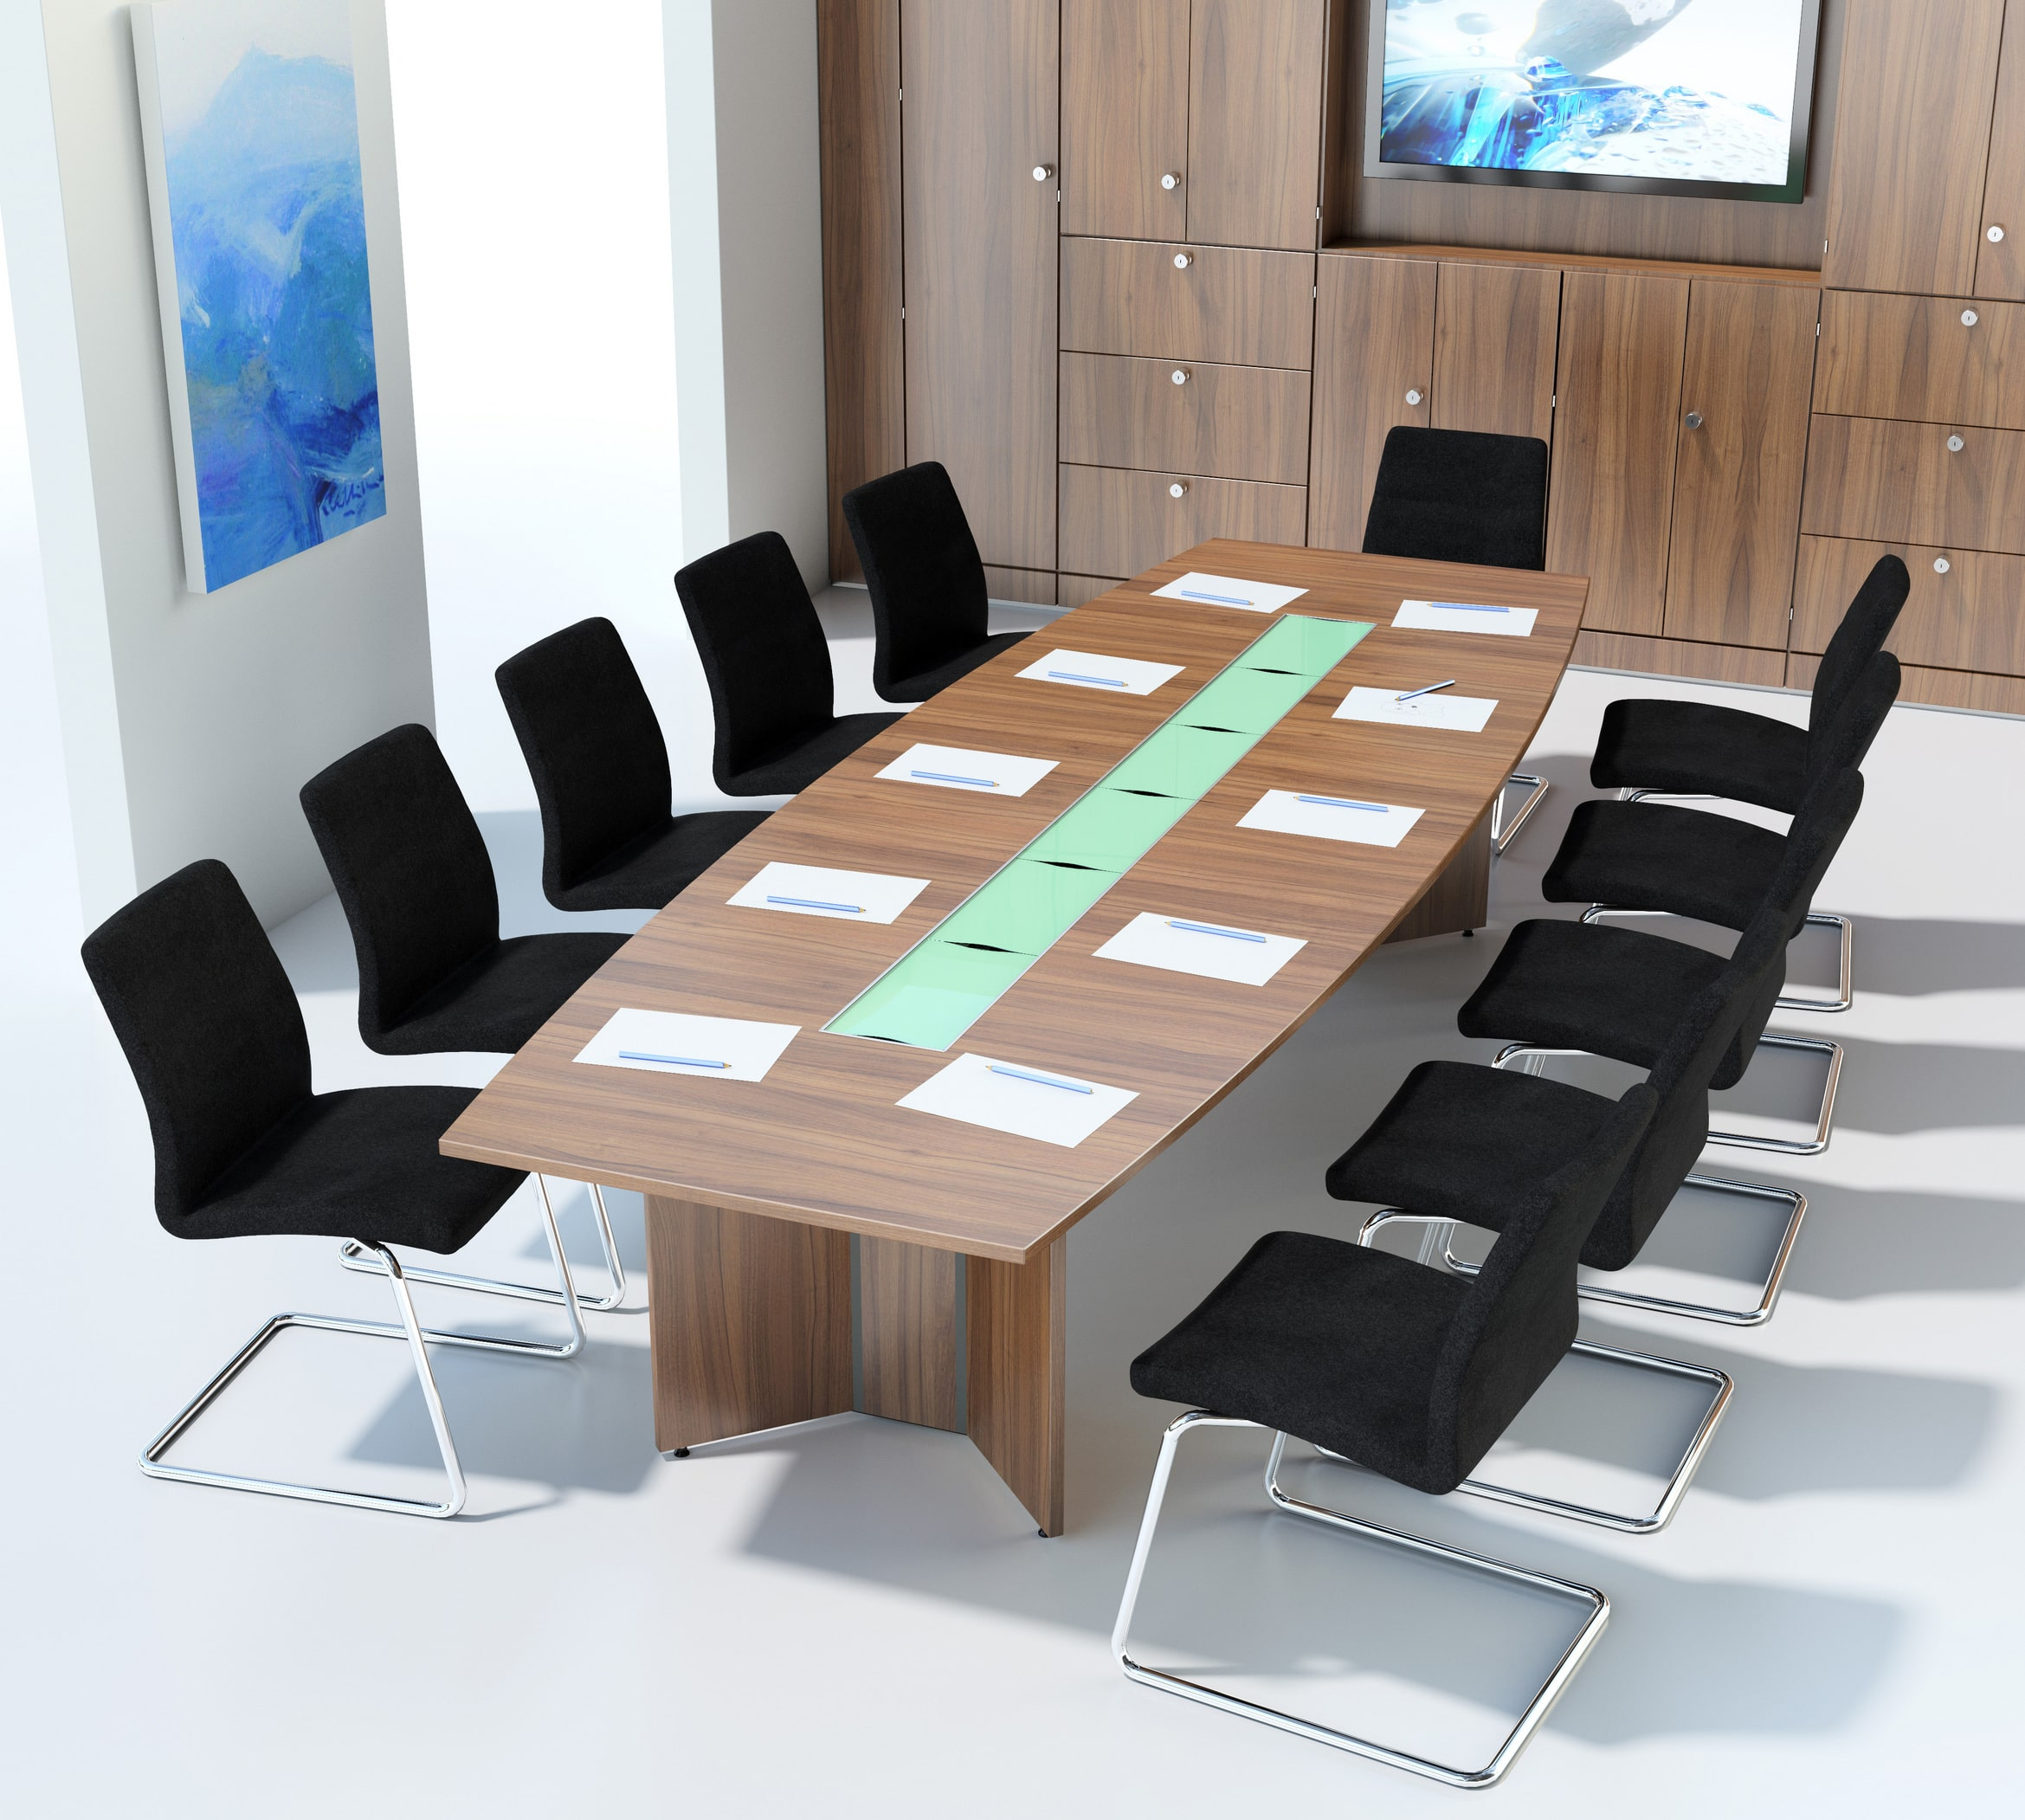conference_table: (440, 533, 1589, 1539)
